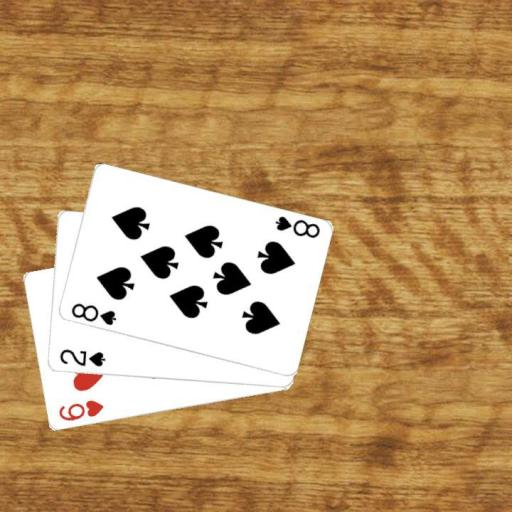2S: (56, 347, 107, 369)
6H: (55, 397, 105, 423)
8S: (68, 300, 118, 327), (272, 213, 322, 240)
